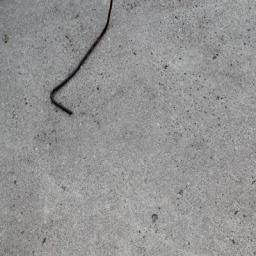FOD: (50, 1, 118, 117)
